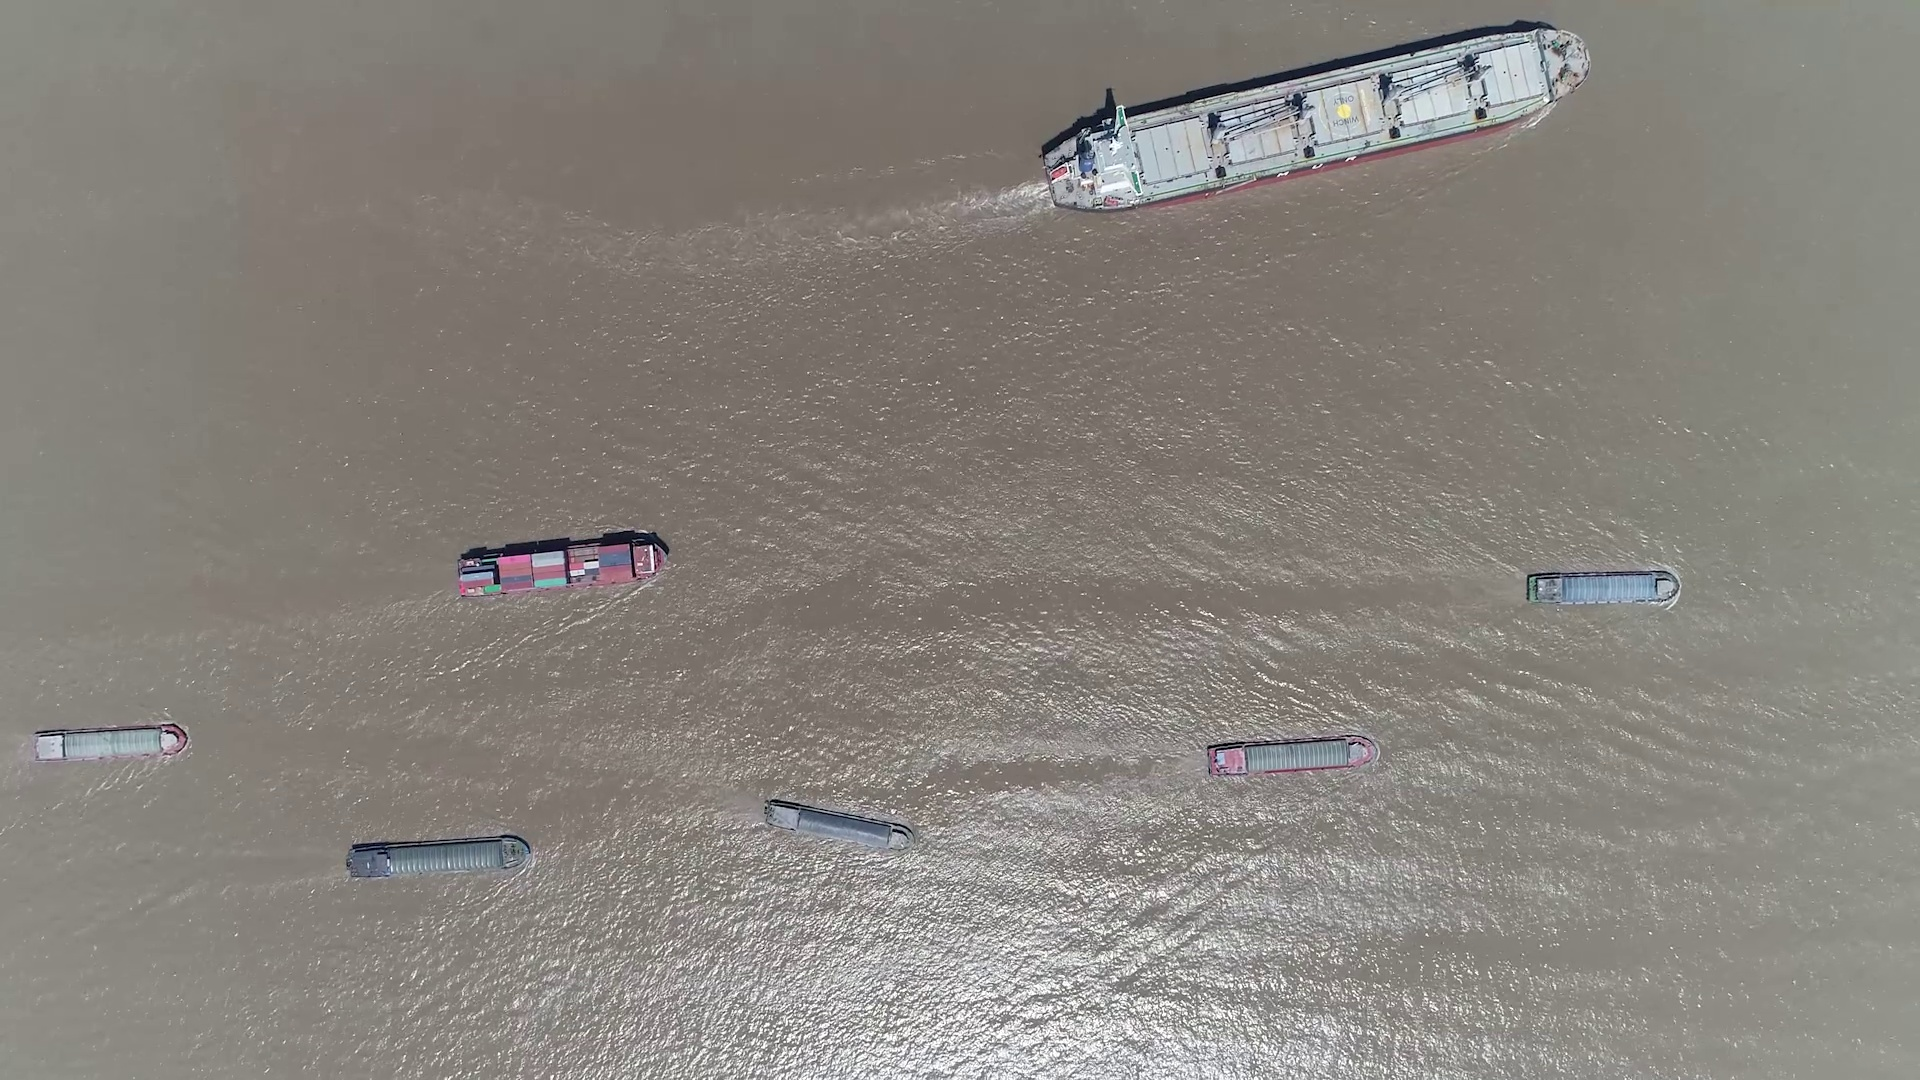ship: (1042, 29, 1585, 212), (456, 535, 669, 600), (345, 835, 531, 880), (764, 799, 914, 851), (1207, 735, 1377, 777), (29, 724, 187, 764), (1524, 570, 1677, 605)
